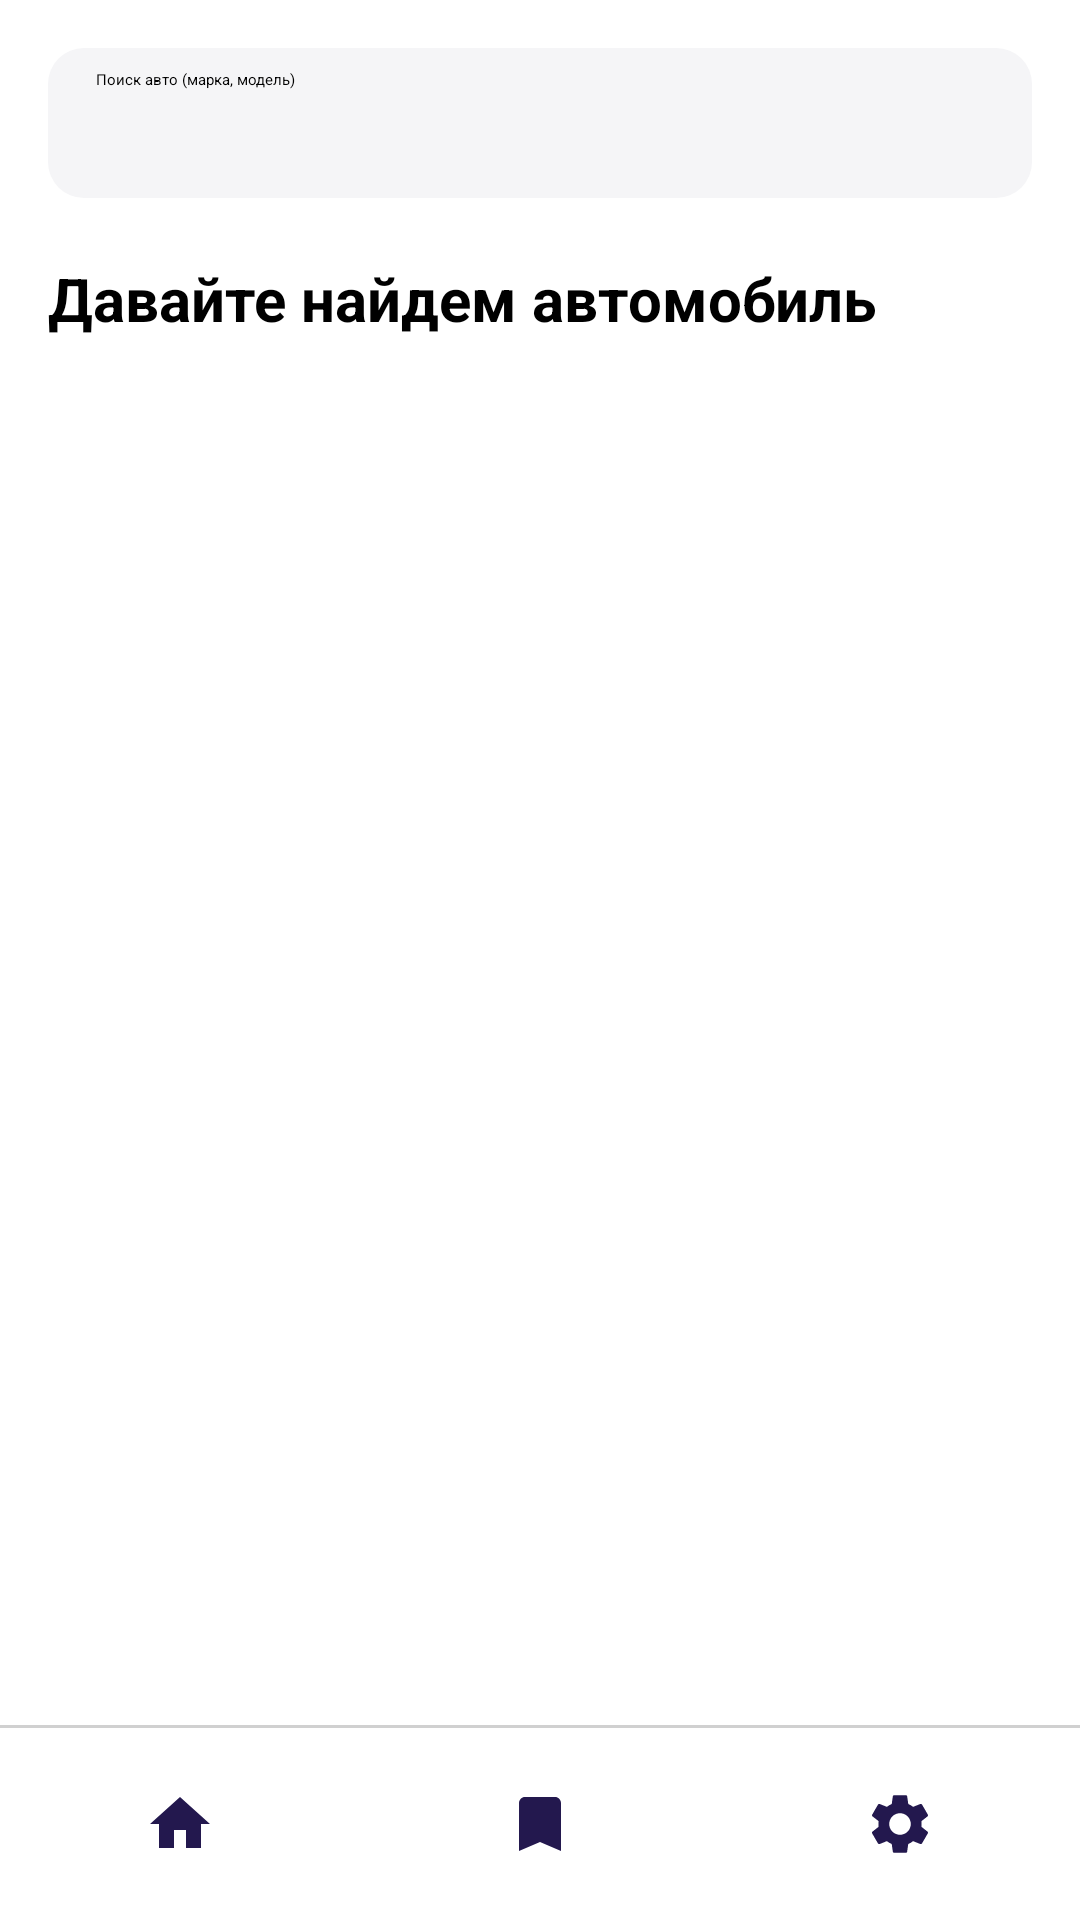

Locate icon controls on the screen. Image size 1080x1920, boxes as box(x1, y1, x2, y2).
Главная: box(150, 1797, 210, 1848)
Избранное: box(519, 1797, 561, 1851)
Настройки: box(872, 1795, 928, 1853)
